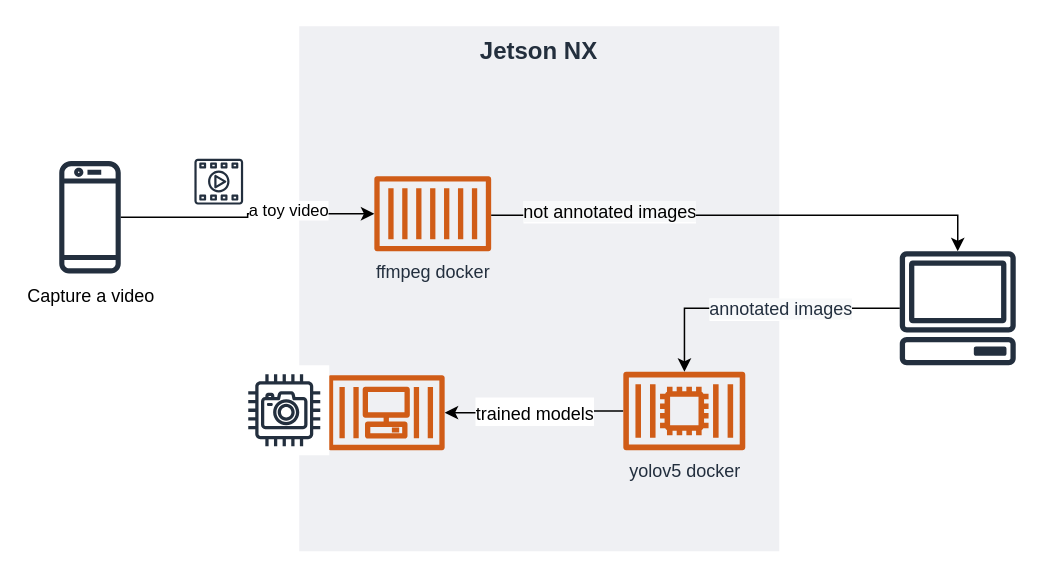
The diagram is 1041 pixels wide and 576 high, and some of its shapes have lost their labels. Here are the shapes that lost their labels. From the top down, the centre of each, then its label:
At (x=957, y=307): "workstation".
At (x=283, y=409): "Detect toy".
